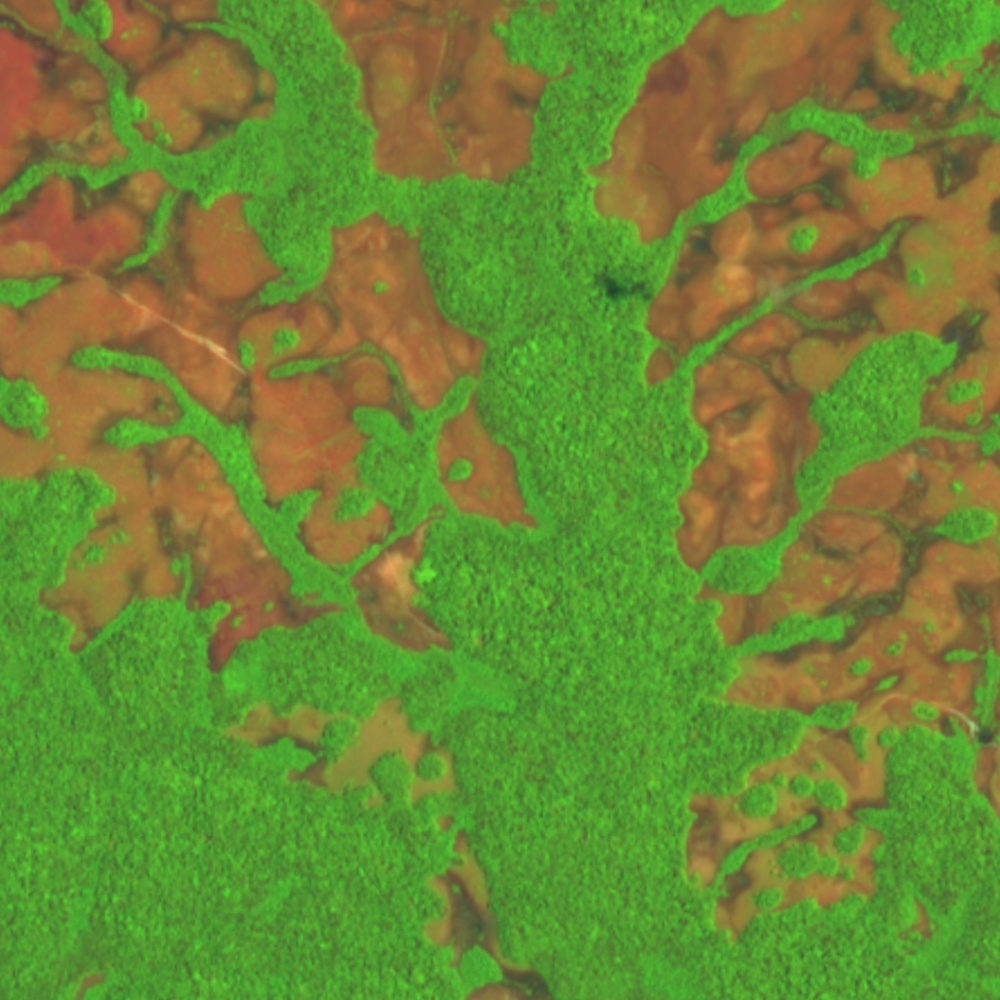legal: (1, 1, 344, 673), (673, 126, 1000, 580), (588, 1, 1000, 244), (643, 126, 1000, 390), (244, 208, 490, 571), (690, 437, 1000, 719), (684, 714, 1000, 943), (308, 1, 575, 180), (218, 691, 464, 809), (423, 816, 561, 1000), (340, 504, 457, 656), (434, 391, 541, 534), (75, 967, 108, 1000)
